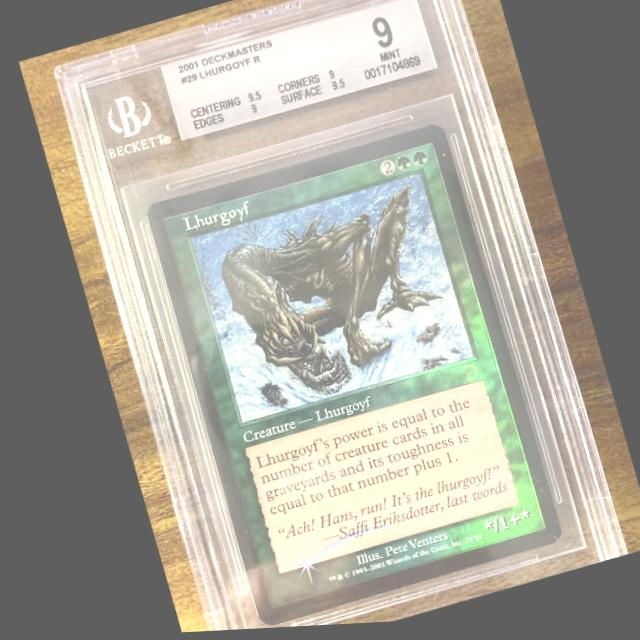bgs_label: (159, 0, 436, 142)
bgs_slab: (50, 0, 621, 633)
card: (139, 125, 558, 631)
